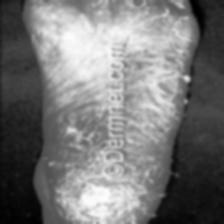Non-Cancerous Skin Condition: (128, 0, 182, 165), (58, 182, 156, 222), (46, 118, 99, 172), (38, 0, 117, 27)
